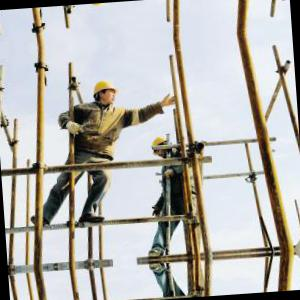helmet: (91, 75, 121, 110), (148, 132, 177, 161), (86, 3, 116, 14)
